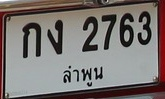txt01: (21, 22, 43, 59)
txt05: (46, 19, 64, 56)
